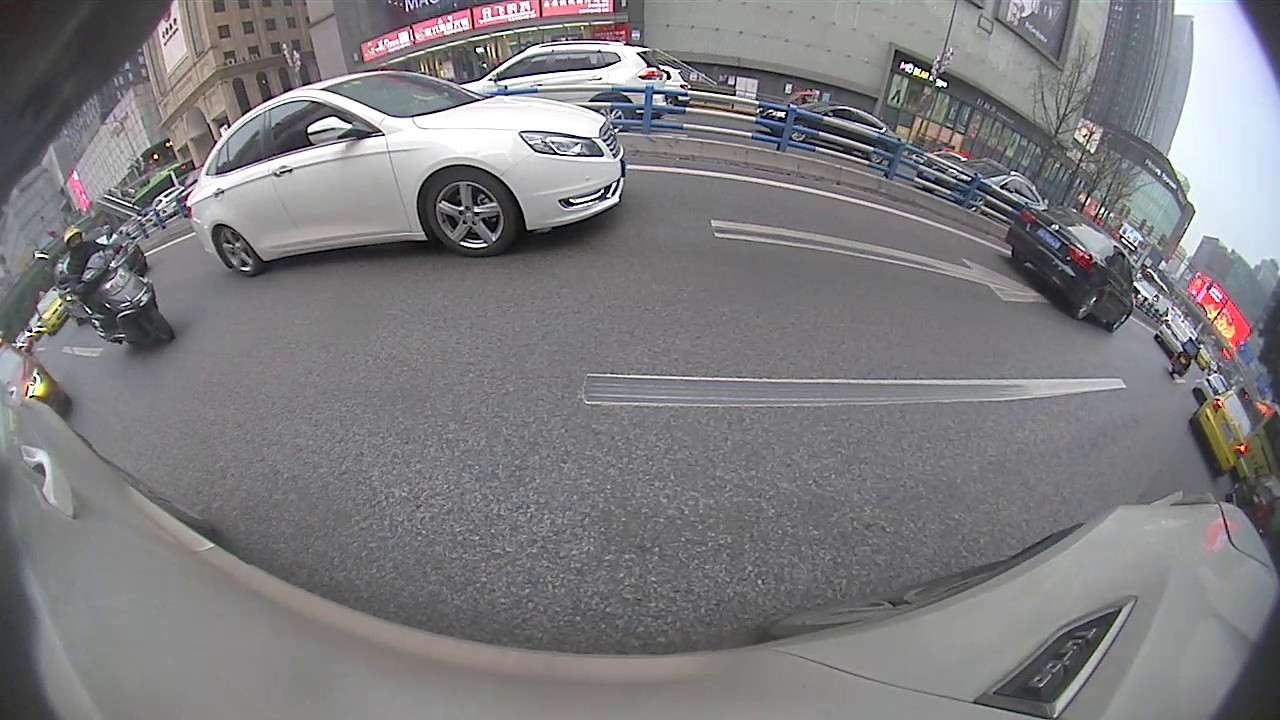car: (185, 69, 626, 278), (457, 40, 670, 136), (1005, 205, 1137, 334), (755, 101, 900, 165), (1188, 389, 1255, 478)
front: (423, 168, 518, 258), (137, 306, 172, 346)
rear: (216, 224, 261, 276), (1077, 289, 1103, 321)
rider: (59, 227, 176, 348)
